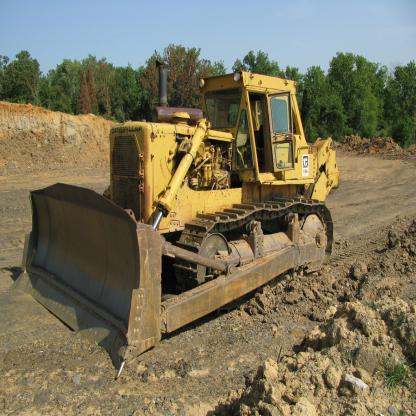bull_dozer/loader/grader: (28, 45, 352, 377)
